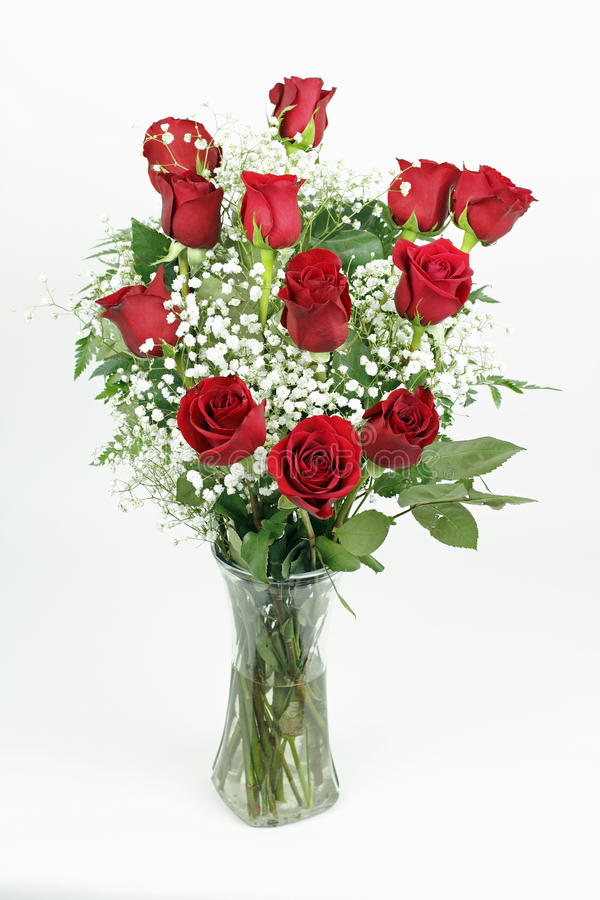RedRose: (261, 406, 365, 522), (97, 265, 198, 369), (124, 154, 229, 254), (451, 147, 538, 260), (383, 232, 475, 337), (354, 375, 443, 483), (174, 370, 268, 470), (378, 137, 461, 238), (143, 99, 235, 187), (274, 256, 363, 345), (259, 57, 336, 154), (241, 164, 311, 263)
